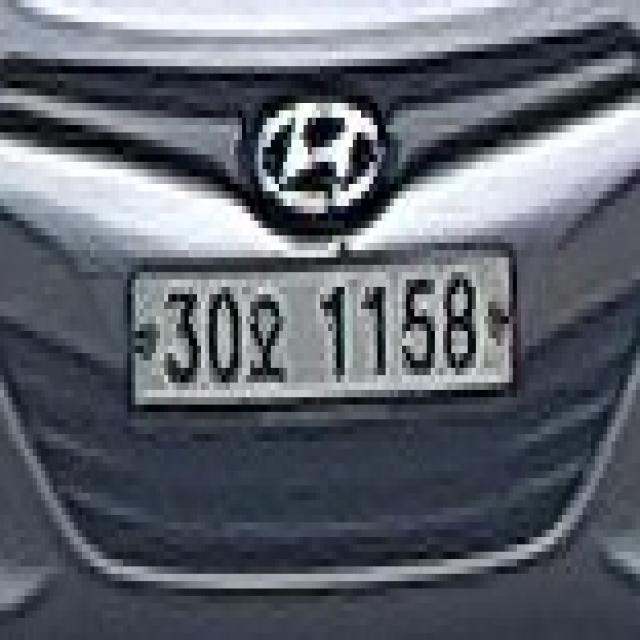0: (201, 287, 246, 390)
1: (320, 280, 349, 382), (361, 280, 390, 382)
3: (164, 279, 201, 390)
5: (394, 272, 439, 383)
8: (443, 265, 480, 375)
license_plate: (127, 257, 517, 412)
o: (246, 287, 287, 390)
